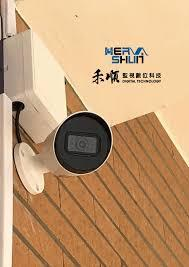Monitor: (35, 99, 150, 214)
